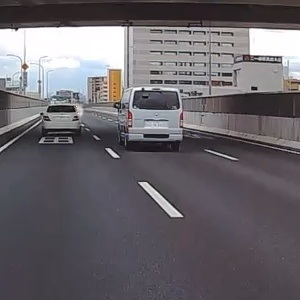car: (124, 87, 184, 145), (43, 104, 80, 134)
